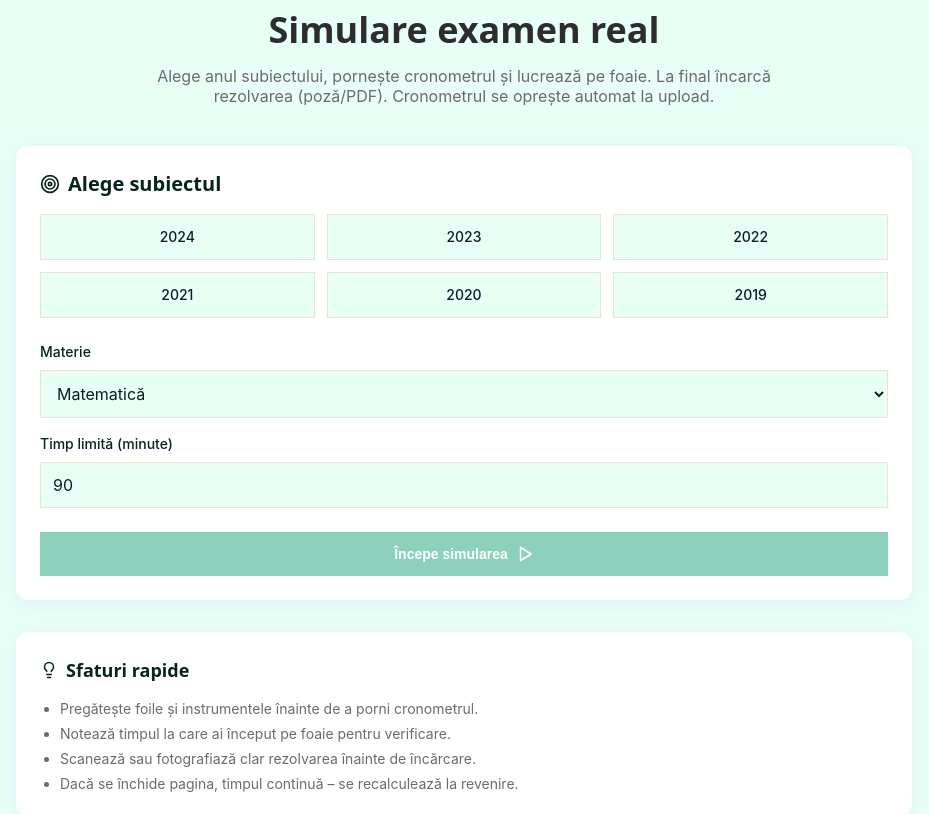
Test case: SimulareExamenPage › starts timer after selecting year and clicking start
This screenshot has width=929, height=814.
# Year buttons rendered
Click the button "2024". click: (177, 237)
box: [40,214,315,260]
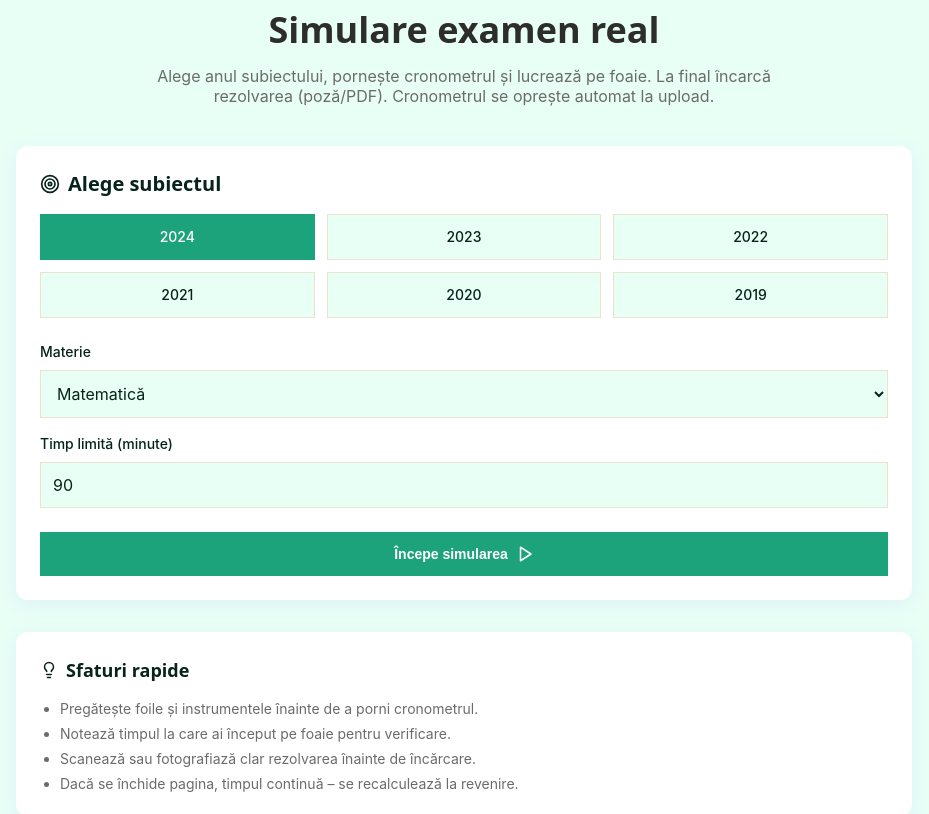
Expected: the button "Începe simularea" is enabled
Click the button "Începe simularea". click: (464, 554)
box: [40,532,888,576]
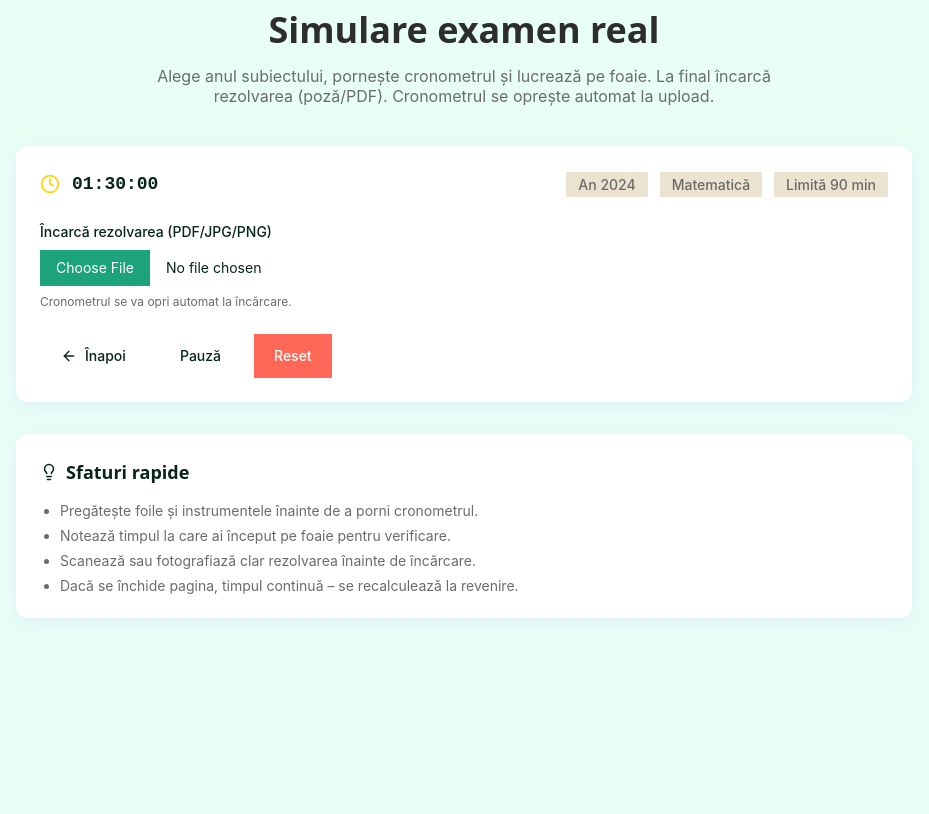
Expected: the text "01:30:00" is shown, [72,170,158,198]
